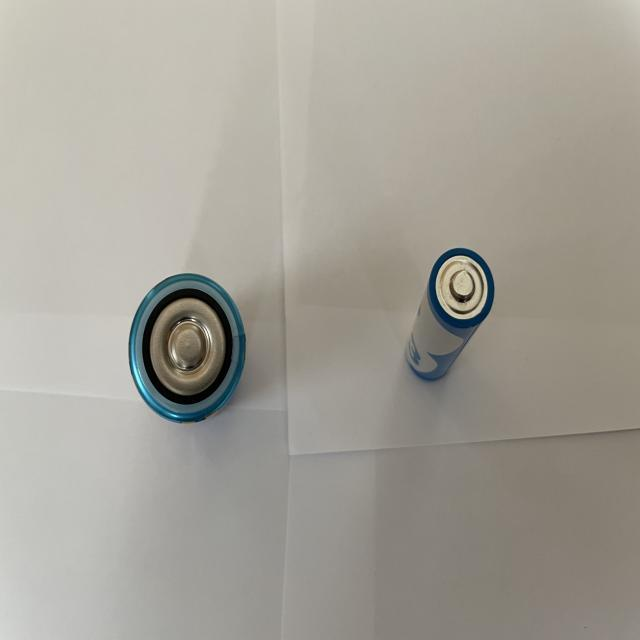hazardous waste: (128, 272, 247, 424), (406, 248, 495, 384)
